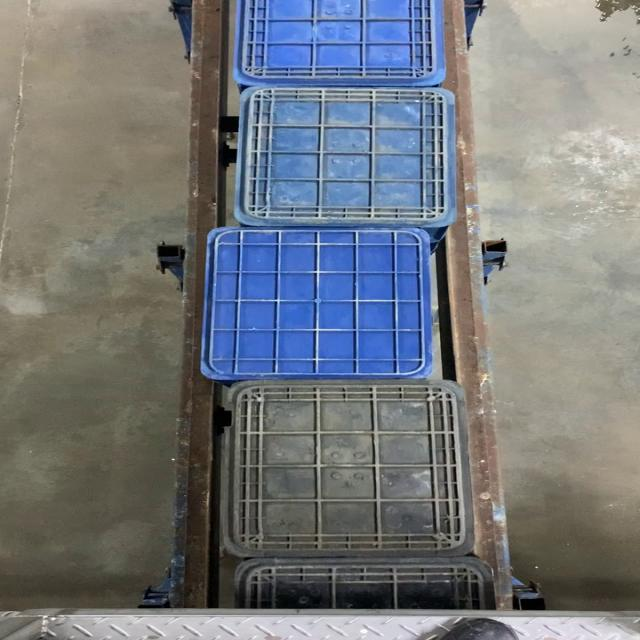Box: (219, 376, 471, 558), (198, 230, 438, 378), (232, 83, 456, 228)
